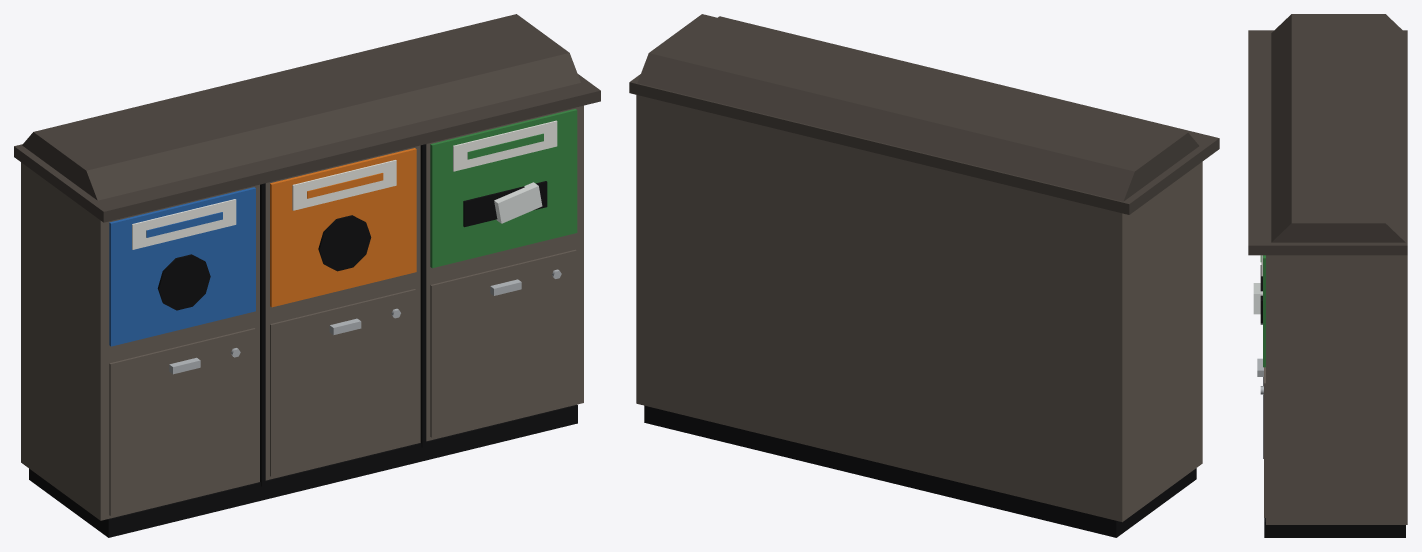
Rendered from trash_bins.glb.
The picture shows the model from 3 angles, left to right: view 1: azimuth 30°, elevation 25°; view 2: azimuth 150°, elevation 25°; view 3: azimuth 270°, elevation 25°; orthographic projection. The views are drawn at different scales.
Visible parts, largest first — view 1: trash_bins; view 2: trash_bins; view 3: trash_bins.
Boxes of the visible parts, x1=… form: trash_bins: x1=14, y1=14, x2=600, y2=537; trash_bins: x1=629, y1=14, x2=1219, y2=537; trash_bins: x1=1248, y1=14, x2=1407, y2=537.
Bounding box in the file's own units: 1.44 × 0.99 × 0.45.
